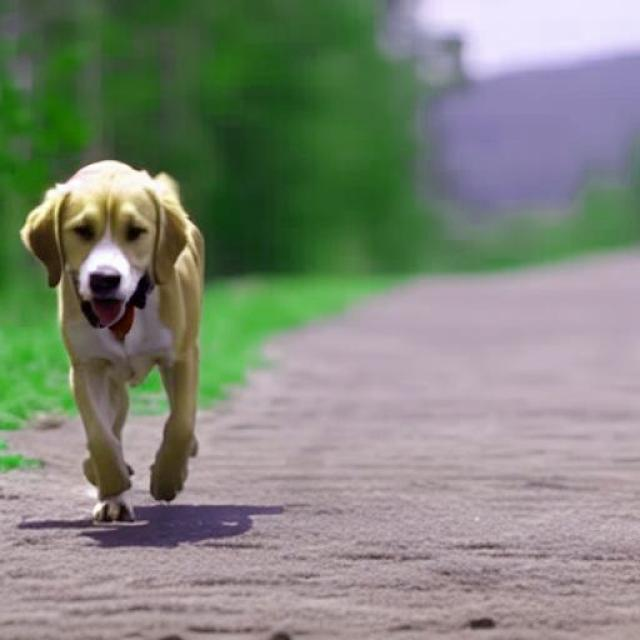Dog: (17, 159, 207, 523)
